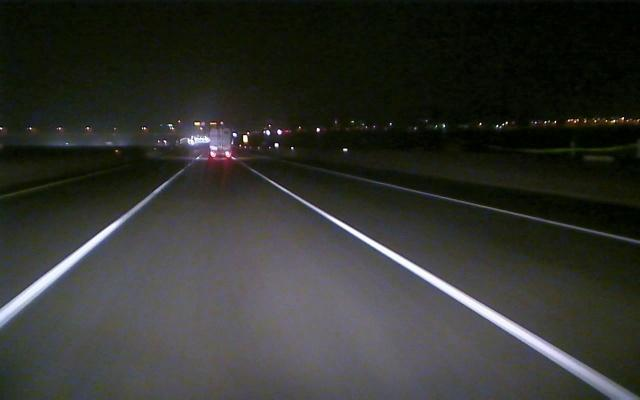lane: (271, 181, 637, 397), (3, 182, 168, 326), (355, 177, 637, 246), (0, 165, 126, 200)
